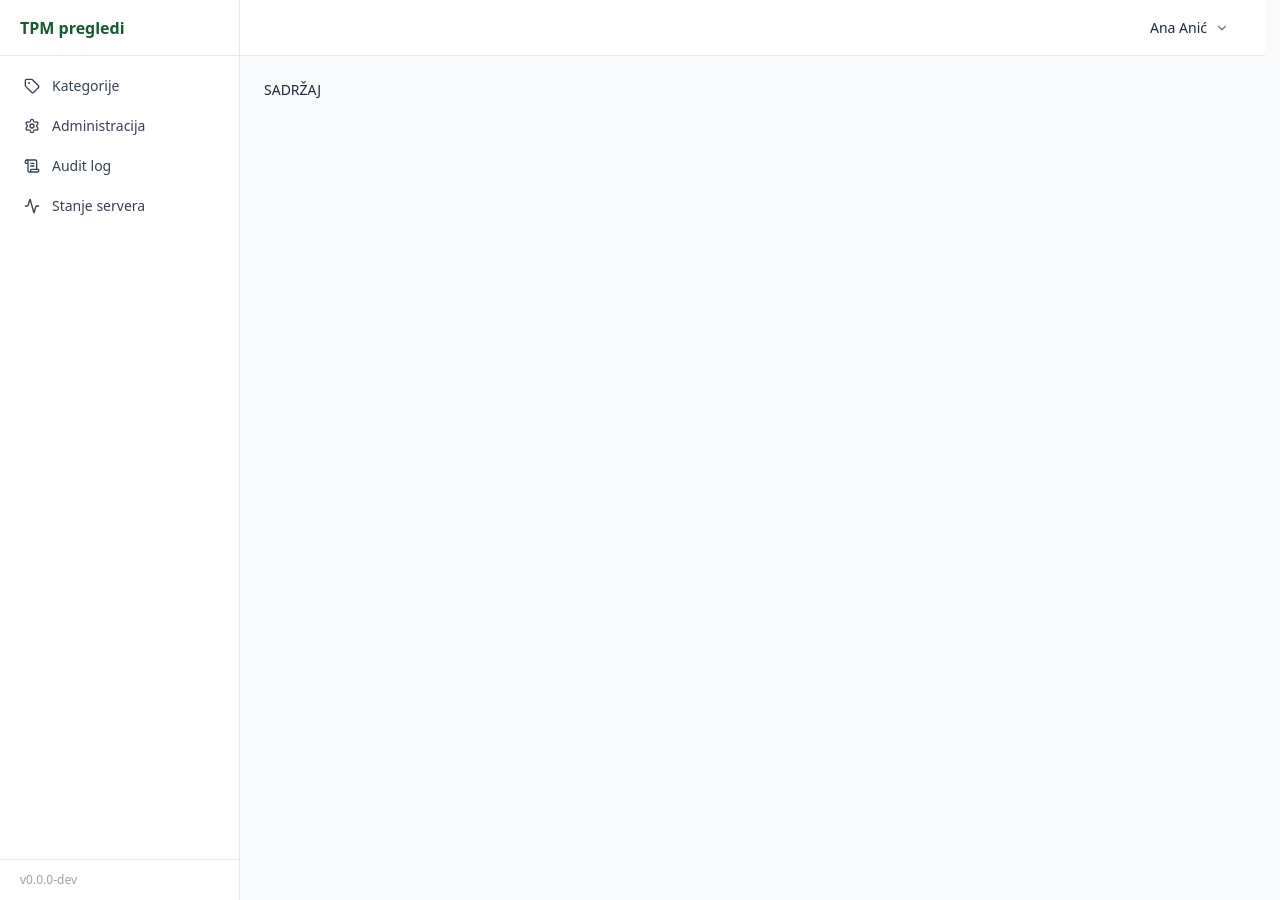
AppLayout — header i korisnički meni › „O aplikaciji" otvara dijalog sa verzijom
What coordinates should you click on to do the following:
click the button "Ana Anić"
I would click on:
 (1190, 28)
Its box is [1138,12,1241,44].
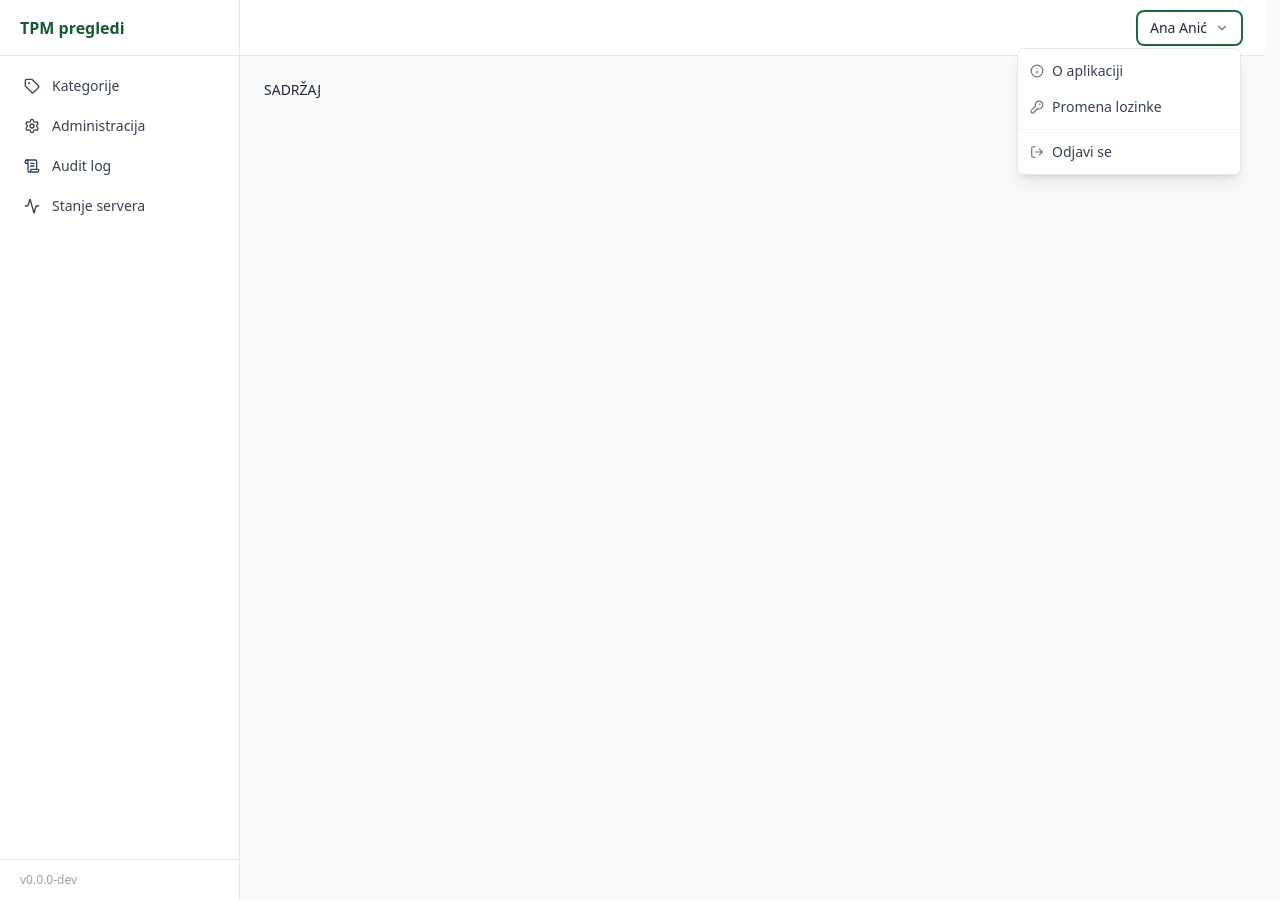
What coordinates should you click on to do the following:
click the menu item "O aplikaciji"
I would click on:
 (1129, 70)
Its box is [1018,52,1240,88].
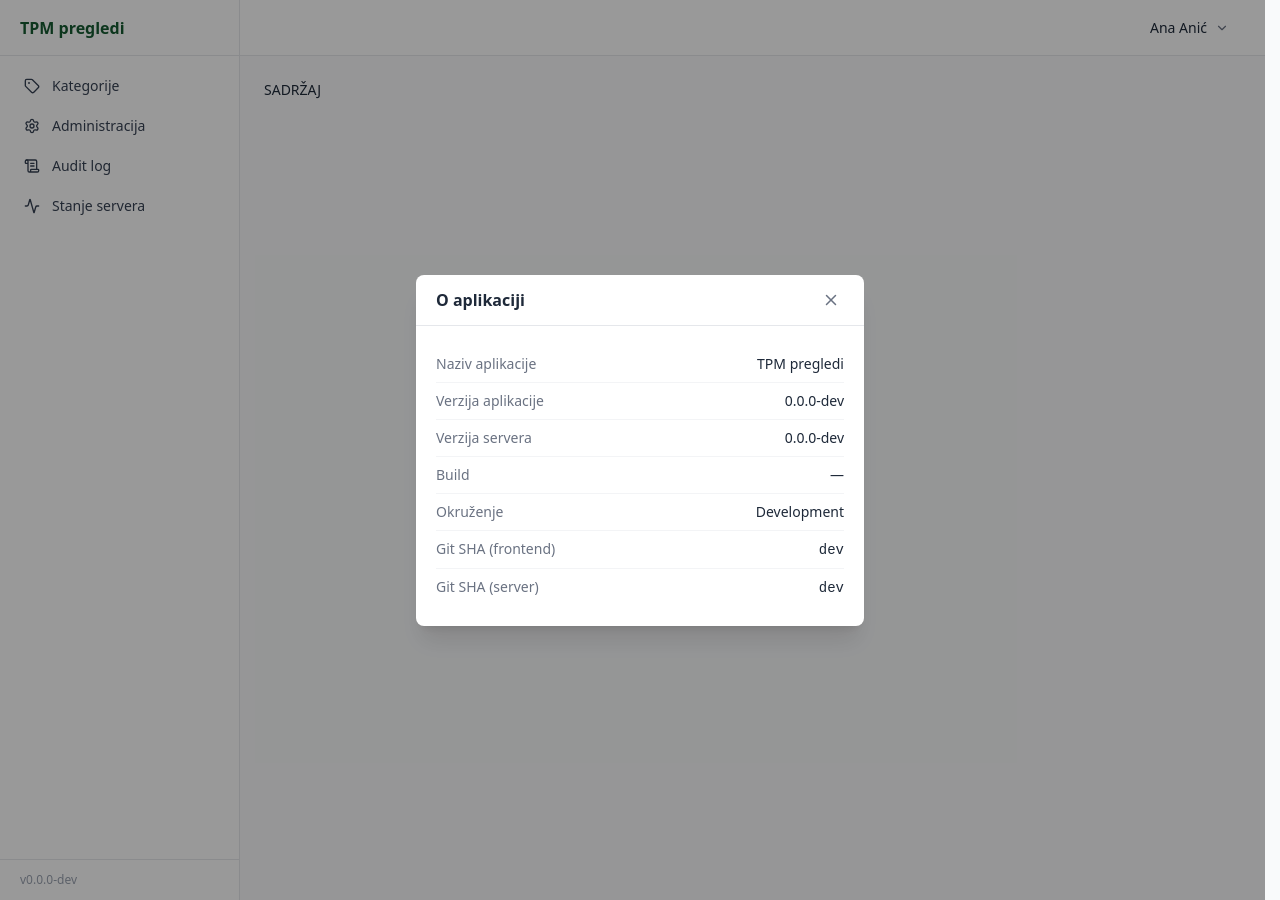
expect the dialog "O aplikaciji" is shown: met, box [416,274,864,626]
expect the text "Development" is shown: met, box [756,502,844,522]
